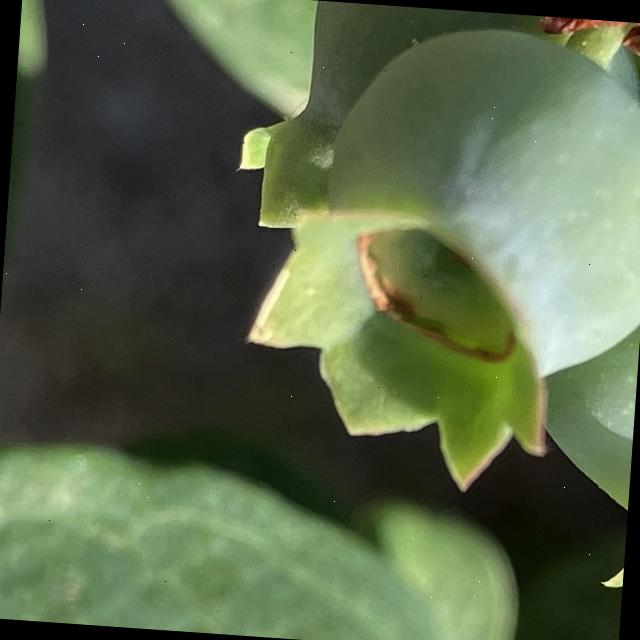Blueberries: (230, 10, 640, 496), (531, 168, 640, 632)
